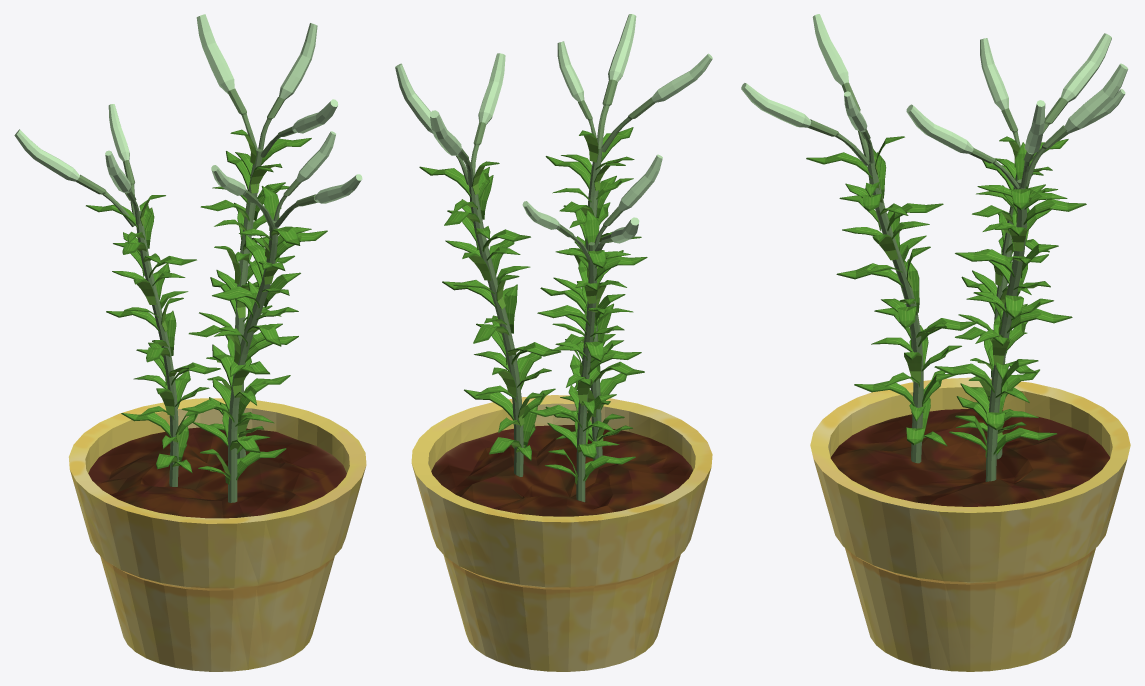
File: Lilium_Good_End.glb
The picture shows the model from 3 angles, left to right: view 1: azimuth 30°, elevation 25°; view 2: azimuth 150°, elevation 25°; view 3: azimuth 270°, elevation 25°; orthographic projection. The views are drawn at different scales.
Visible parts, largest first — view 1: Pot, Plane.017; view 2: Pot, Plane.017; view 3: Pot, Plane.017.
Part boxes in pixels (x1,y1,x2,y2): Pot: (68, 398, 366, 671); Plane.017: (14, 14, 362, 502); Pot: (411, 395, 712, 671); Plane.017: (395, 14, 712, 502); Pot: (810, 377, 1130, 671); Plane.017: (741, 14, 1127, 481).
Size of the model in its own units: 2.15 by 4.2 by 2.49.
Materials: 4 (2 with a texture image).
